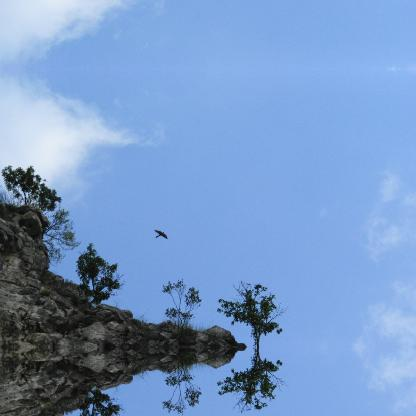Bird: (154, 230, 166, 238)
